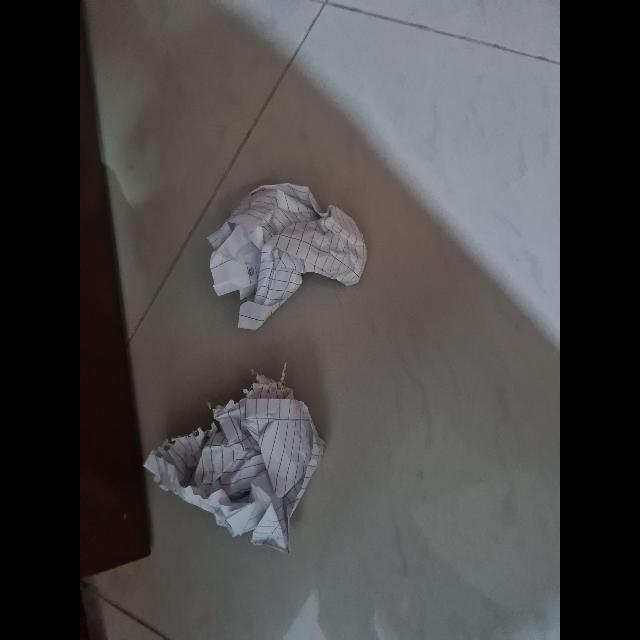trash: (206, 178, 376, 330)
